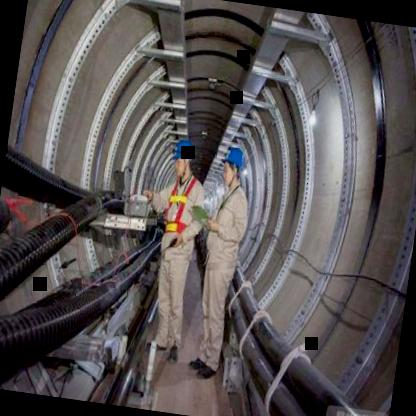helmet: (167, 130, 200, 180), (218, 136, 248, 190)
